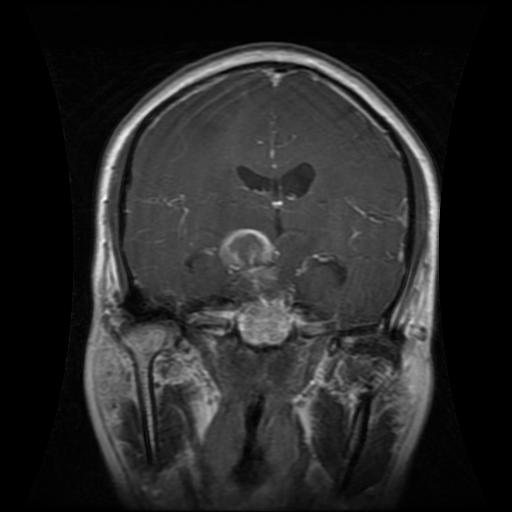Gliomia_tumour: (214, 225, 283, 294)
